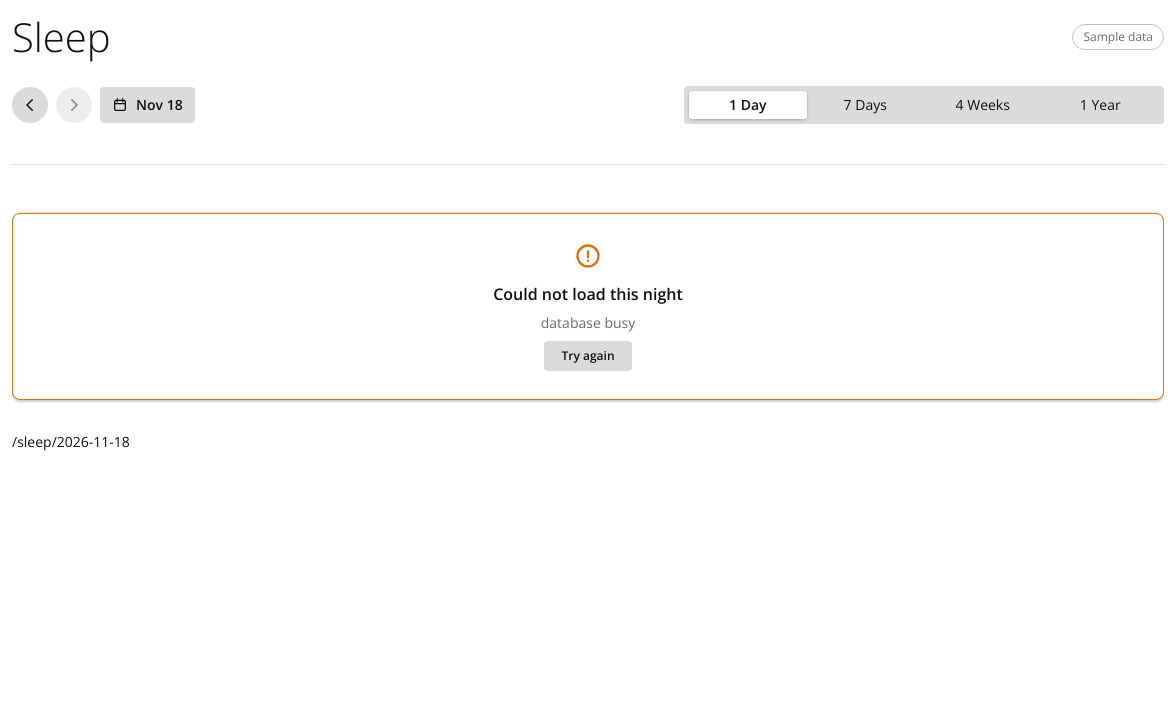
Test case: SleepPage › shows an error with a retry when the night cannot be loaded
Check: the text "Could not load this night" is shown, box left=493, top=283, right=683, bottom=305
What coordinates should you click on to do the following:
click the button "Try again"
I would click on:
 (588, 356)
Its box is left=544, top=341, right=632, bottom=371.
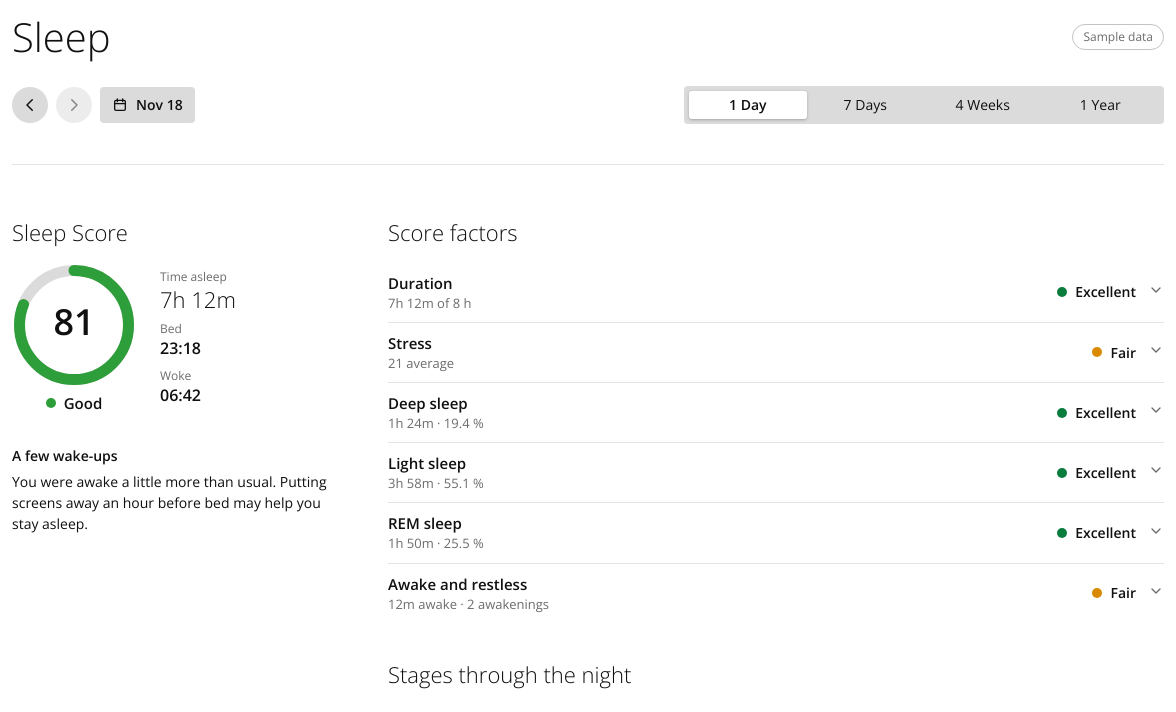
Check: the text "7h 12m" is shown, box left=160, top=286, right=236, bottom=312
